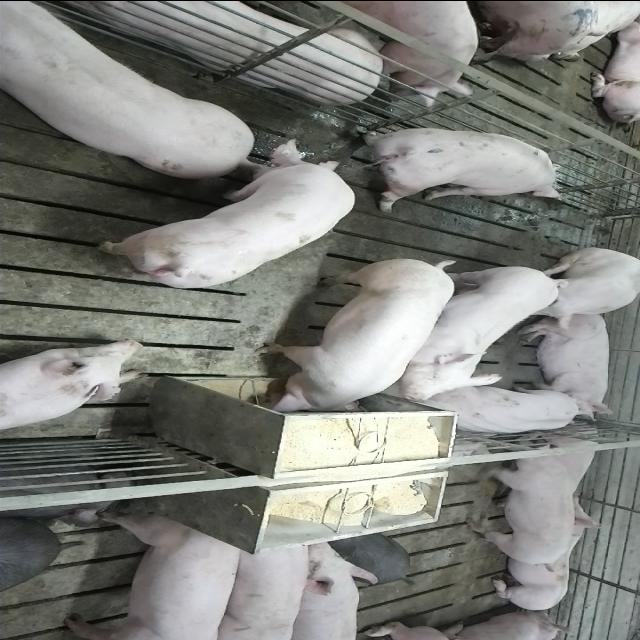Feeding: (245, 258, 461, 421)
Lateral_lying: (49, 0, 471, 102), (514, 310, 618, 416)
Sitting: (508, 246, 638, 332)
Standing: (0, 0, 257, 174), (94, 134, 354, 284), (61, 508, 250, 639), (388, 260, 563, 398), (345, 124, 567, 210), (321, 0, 475, 102), (464, 439, 576, 567), (210, 534, 315, 636), (284, 533, 376, 637)
Sternal_lying: (0, 337, 147, 434), (486, 496, 612, 609)
